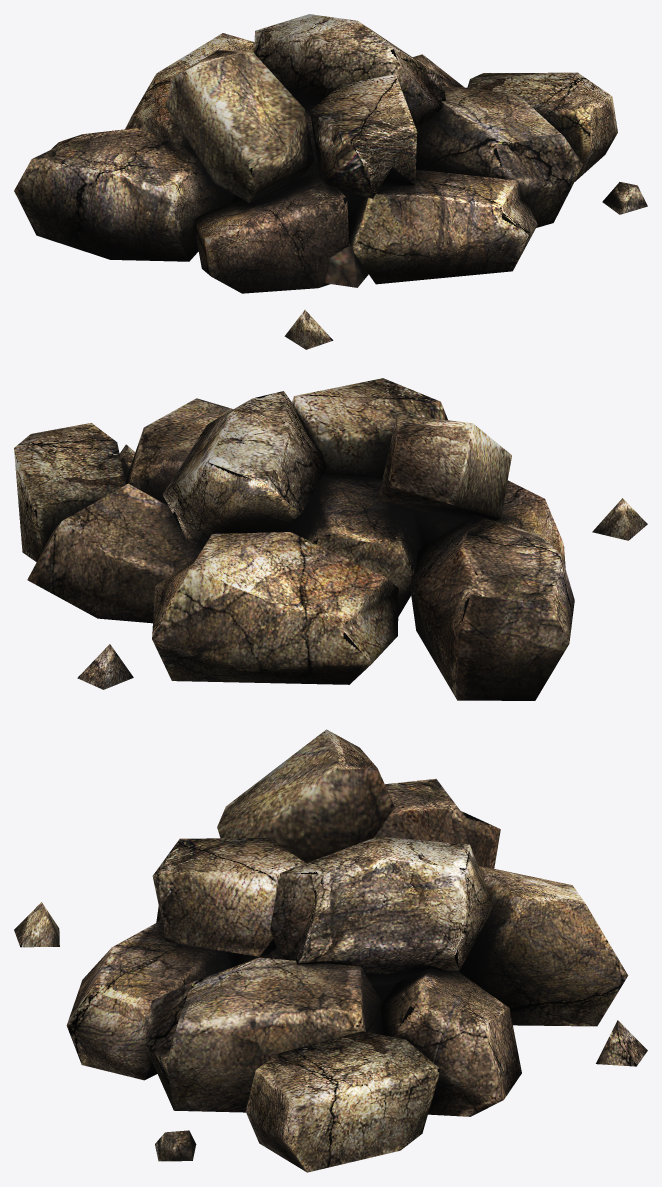
The model's file is rock_007_LOD1.obj.
3 renders of one model, top to bottom at view 1: azimuth 30°, elevation 25°; view 2: azimuth 150°, elevation 25°; view 3: azimuth 270°, elevation 25°, orthographic. The views are drawn at different scales.
Parts seen in each view (by area): view 1: rock_007_LOD1 rock_007; view 2: rock_007_LOD1 rock_007; view 3: rock_007_LOD1 rock_007.
Part boxes in pixels (<box>): rock_007_LOD1 rock_007: <box>14,14,647,349</box>; rock_007_LOD1 rock_007: <box>14,378,647,700</box>; rock_007_LOD1 rock_007: <box>14,729,647,1172</box>.
Size of the model in its own units: 722 by 238 by 625.
Materials: 1 (1 with a texture image).
